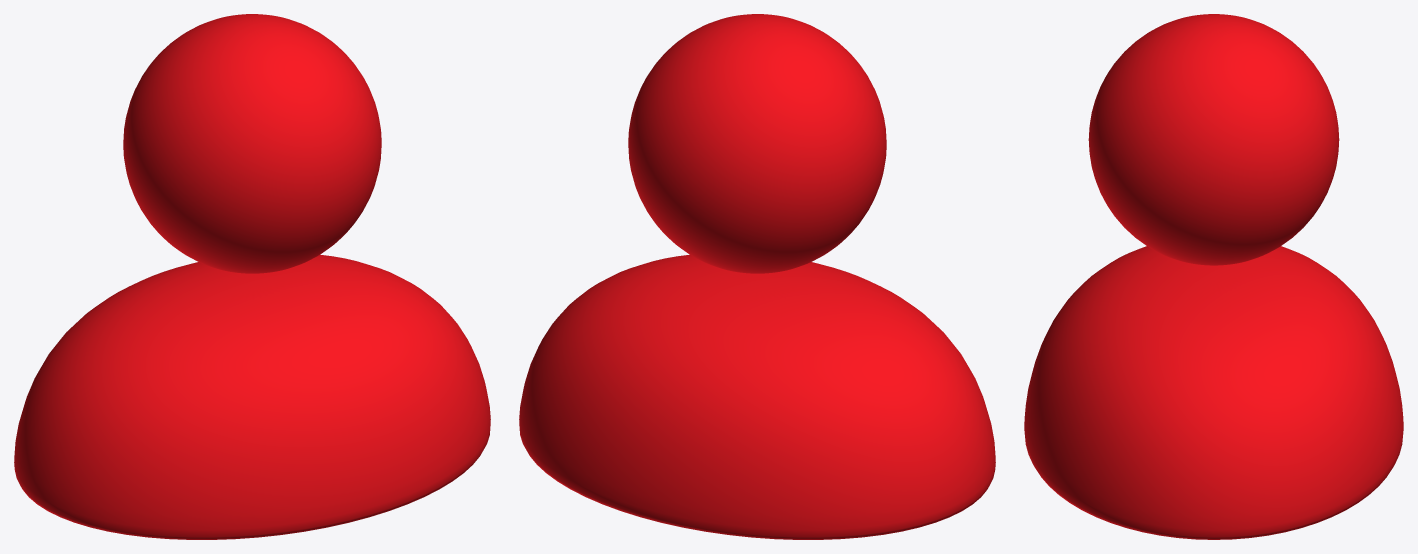
File: youarehereRed.glb
3 views of the same model, side by side, from view 1: azimuth 30°, elevation 25°; view 2: azimuth 150°, elevation 25°; view 3: azimuth 270°, elevation 25° (orthographic). The views are drawn at different scales.
Visible parts, largest first — view 1: Object_2; view 2: Object_2; view 3: Object_2.
Part boxes in pixels (<box>): Object_2: <box>14,14,490,539</box>; Object_2: <box>519,14,995,539</box>; Object_2: <box>1024,14,1403,539</box>.
Size of the model in its own units: 1.43 by 1.35 by 1.11.
